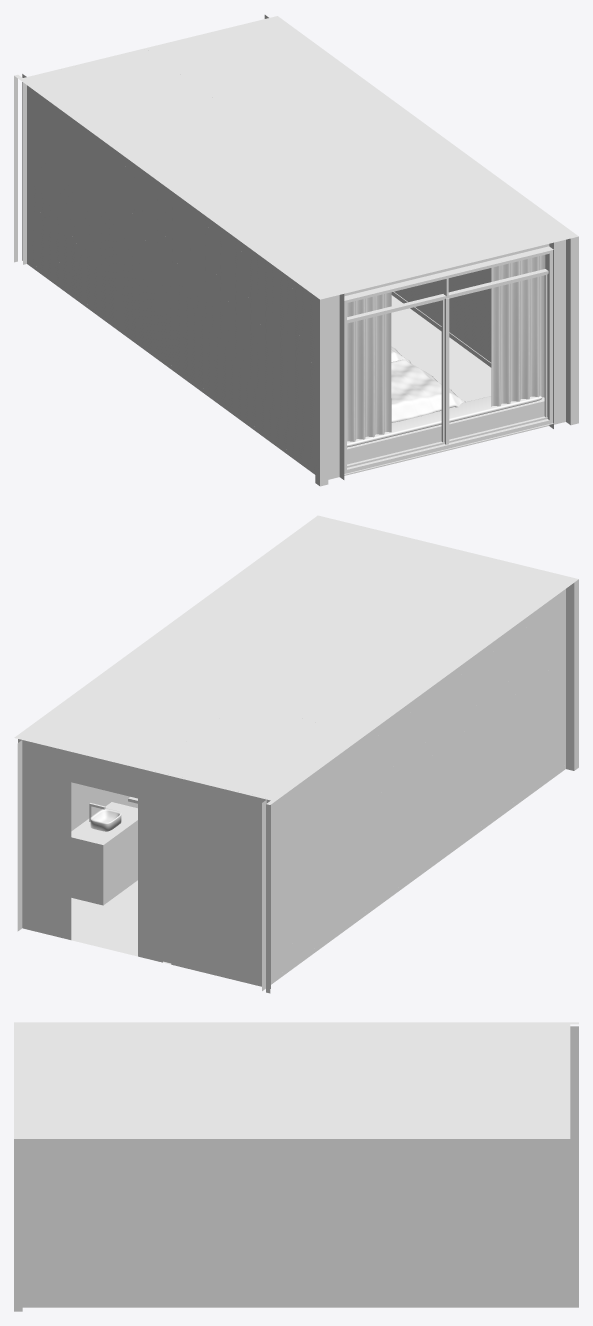
The picture shows the model from 3 angles, top to bottom: view 1: azimuth 30°, elevation 25°; view 2: azimuth 150°, elevation 25°; view 3: azimuth 270°, elevation 25°; orthographic projection. The views are drawn at different scales.
Parts seen in each view (by area): view 1: r215; view 2: r215; view 3: r215.
Boxes of the visible parts, box(x1,y1,x2,y2) form: r215: box(14, 15, 578, 486); r215: box(14, 515, 578, 993); r215: box(14, 1022, 578, 1311).
Bounding box in the file's own units: 3.77 × 2.6 × 7.72.
Materials: 20 (20 with a texture image).
